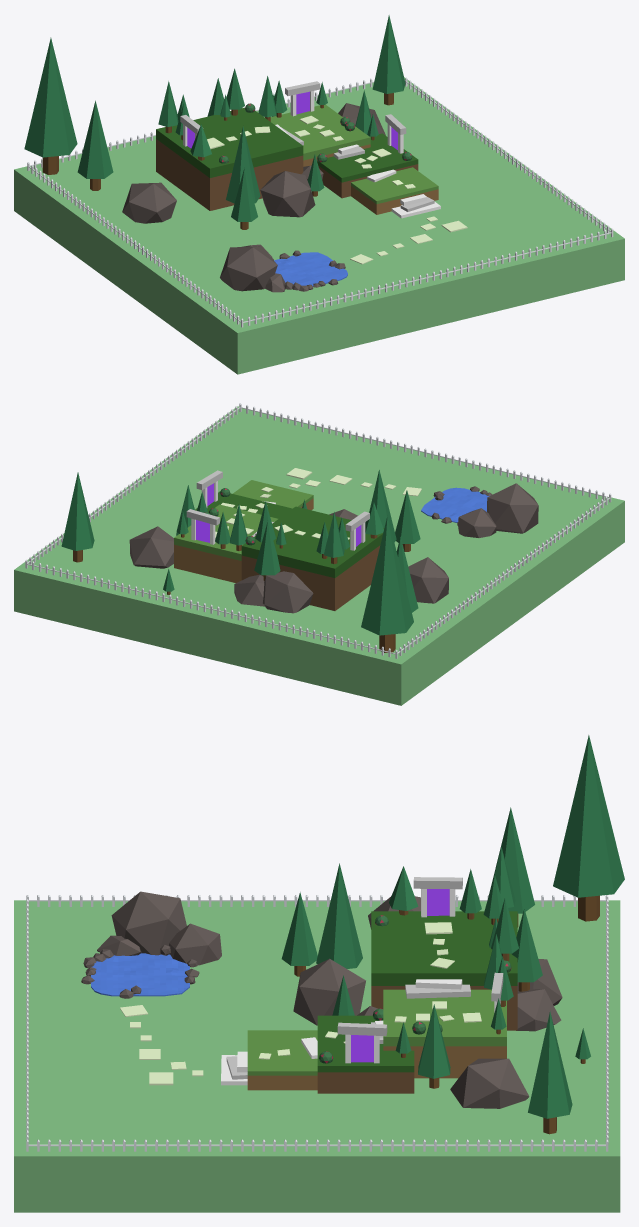
Rendered from environment.glb.
The picture shows the model from 3 angles, top to bottom: view 1: azimuth 30°, elevation 25°; view 2: azimuth 150°, elevation 25°; view 3: azimuth 270°, elevation 25°; orthographic projection. The views are drawn at different scales.
Visible parts, largest first — view 1: floor, terrain, trees.017, terrain.001, terrain.002, terrain.003, boulders.008, boulders.002, boulders.001, pond, trees.008, trees.012 (+4 smaller); view 2: floor, terrain, trees.017, terrain.001, boulders.008, boulders.006, trees.012, boulders.004, pond, boulders.001, terrain.003, boulders (+8 smaller); view 3: floor, terrain, trees.017, terrain.001, terrain.002, terrain.003, pond, boulders.008, boulders.004, boulders.002, trees.012, trees.009 (+11 smaller).
Boxes of the visible parts, x1,y1,x2,y2 form: floor: [14, 77, 624, 374]; terrain: [156, 107, 303, 210]; trees.017: [24, 37, 77, 174]; terrain.001: [270, 104, 370, 166]; terrain.002: [317, 133, 418, 198]; terrain.003: [351, 167, 438, 214]; boulders.008: [220, 246, 277, 291]; boulders.002: [260, 171, 315, 217]; boulders.001: [122, 182, 176, 223]; pond: [274, 252, 347, 286]; trees.008: [77, 100, 113, 190]; trees.012: [372, 15, 405, 105]; floor: [14, 406, 624, 705]; terrain: [241, 506, 384, 610]; trees.017: [361, 515, 413, 652]; terrain.001: [174, 504, 277, 582]; boulders.008: [487, 483, 538, 533]; boulders.006: [263, 571, 313, 613]; trees.012: [61, 472, 94, 562]; boulders.004: [129, 526, 173, 568]; pond: [421, 487, 489, 522]; boulders.001: [408, 557, 448, 603]; terrain.003: [233, 480, 313, 510]; boulders: [458, 508, 496, 537]; floor: [14, 900, 620, 1212]; terrain: [371, 911, 517, 1030]; trees.017: [553, 735, 624, 921]; terrain.001: [383, 989, 506, 1078]; terrain.002: [317, 1015, 414, 1093]; terrain.003: [247, 1030, 317, 1090]; pond: [91, 953, 189, 996]; boulders.008: [111, 891, 186, 955]; boulders.004: [450, 1058, 529, 1108]; boulders.002: [293, 958, 365, 1025]; trees.012: [528, 1011, 572, 1134]; trees.009: [316, 863, 362, 968].
Size of what is drawn, in the model's own units: 38.91 by 16.92 by 39.21.
